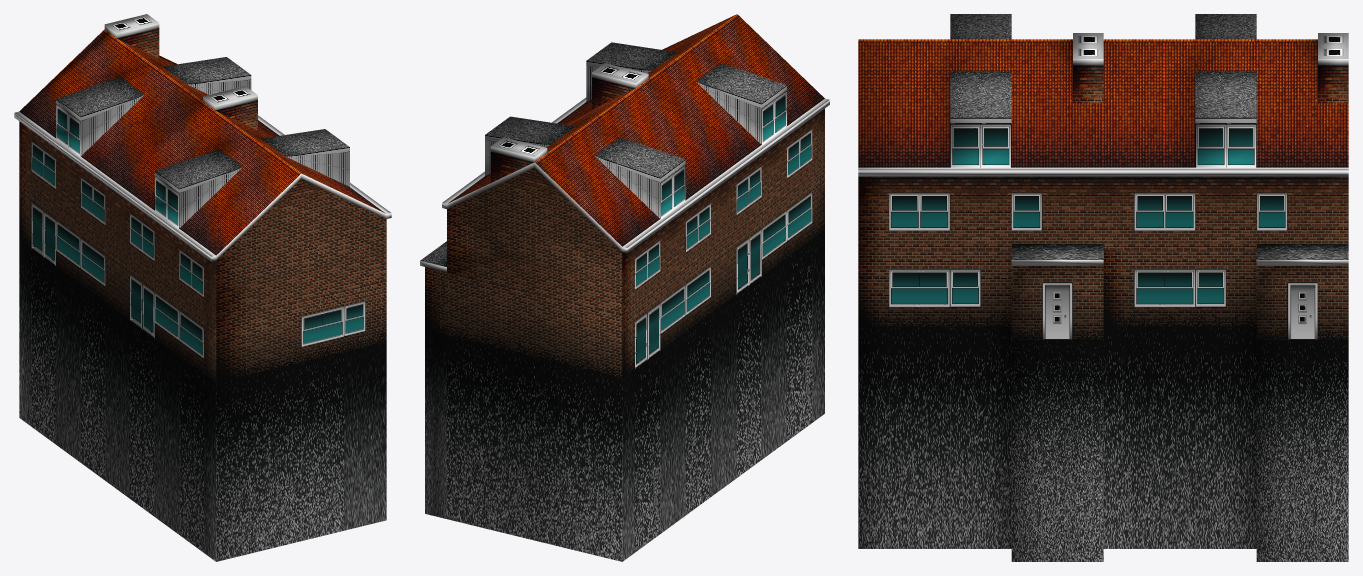
The model's file is doorzon_mod2_2a.fbx.
3 renders of one model, left to right at view 1: azimuth 30°, elevation 25°; view 2: azimuth 150°, elevation 25°; view 3: azimuth 270°, elevation 25°, orthographic. The views are drawn at different scales.
Visible parts, largest first — view 1: doorzon_mod2_2a; view 2: doorzon_mod2_2a; view 3: doorzon_mod2_2a.
Boxes of the visible parts, box(x1,y1,x2,y2) form: doorzon_mod2_2a: box(14, 14, 391, 561); doorzon_mod2_2a: box(420, 14, 829, 561); doorzon_mod2_2a: box(858, 14, 1348, 561).
Size of the model in its own units: 1062 by 1879 by 1800.
